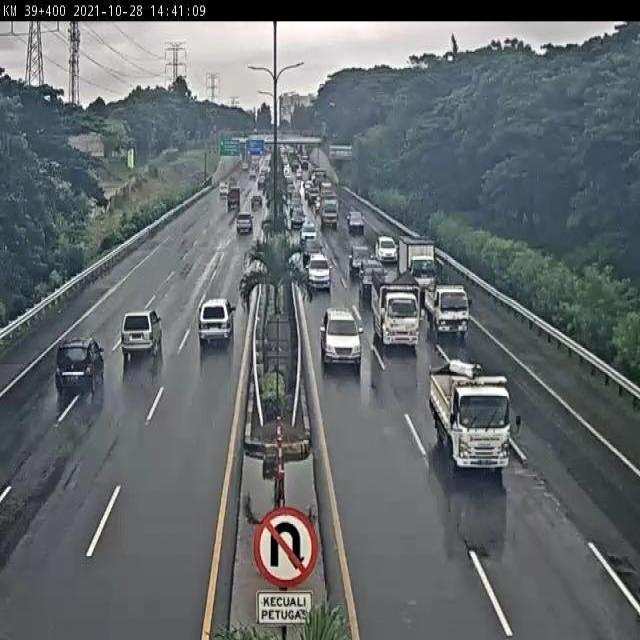ARABA: (319, 307, 364, 369), (358, 256, 386, 296), (305, 252, 331, 291)
KAMYONET: (430, 362, 513, 474), (371, 270, 421, 350), (53, 337, 106, 395), (425, 281, 470, 339), (397, 233, 437, 290), (120, 308, 163, 361), (199, 297, 236, 348)
